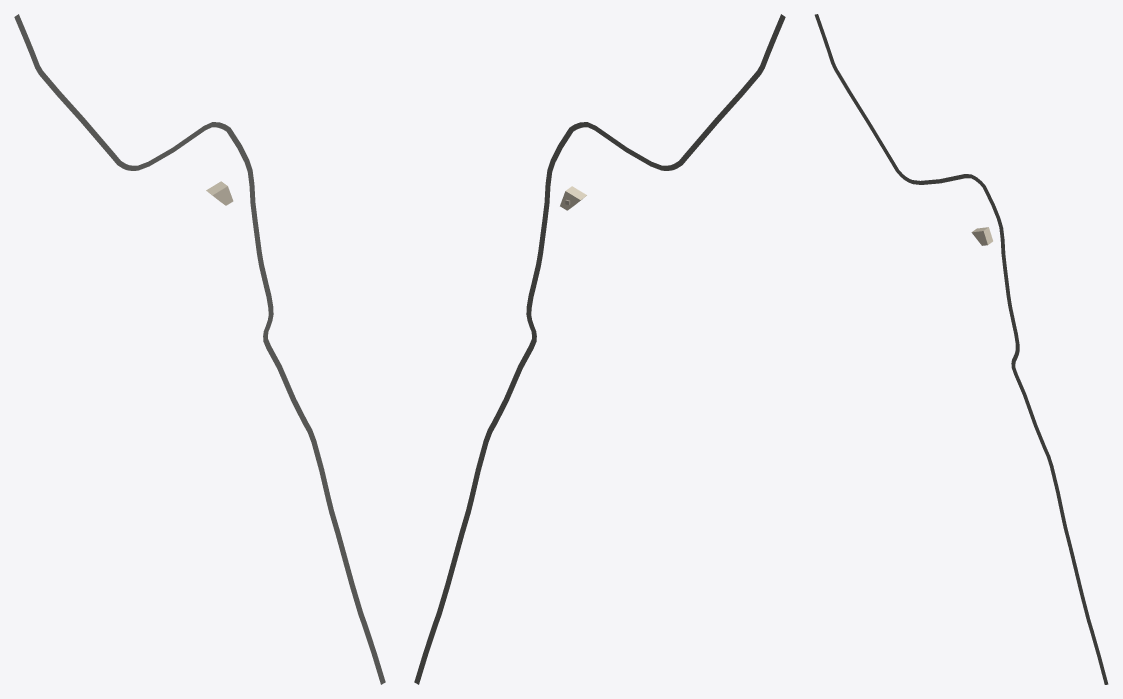
File: historic-palestine-16_33_3576_3272.glb
3 renders of one model, left to right at view 1: azimuth 30°, elevation 25°; view 2: azimuth 150°, elevation 25°; view 3: azimuth 330°, elevation 25°, orthographic. The views are drawn at different scales.
Visible parts, largest first — view 1: Road; view 2: Road; view 3: Road.
Part boxes in pixels (box(x1,y1,x2,y2)): Road: box(14, 14, 385, 684); Road: box(414, 14, 785, 684); Road: box(814, 14, 1108, 684).
Size of the model in its own units: 240 by 469 by 8.7.
